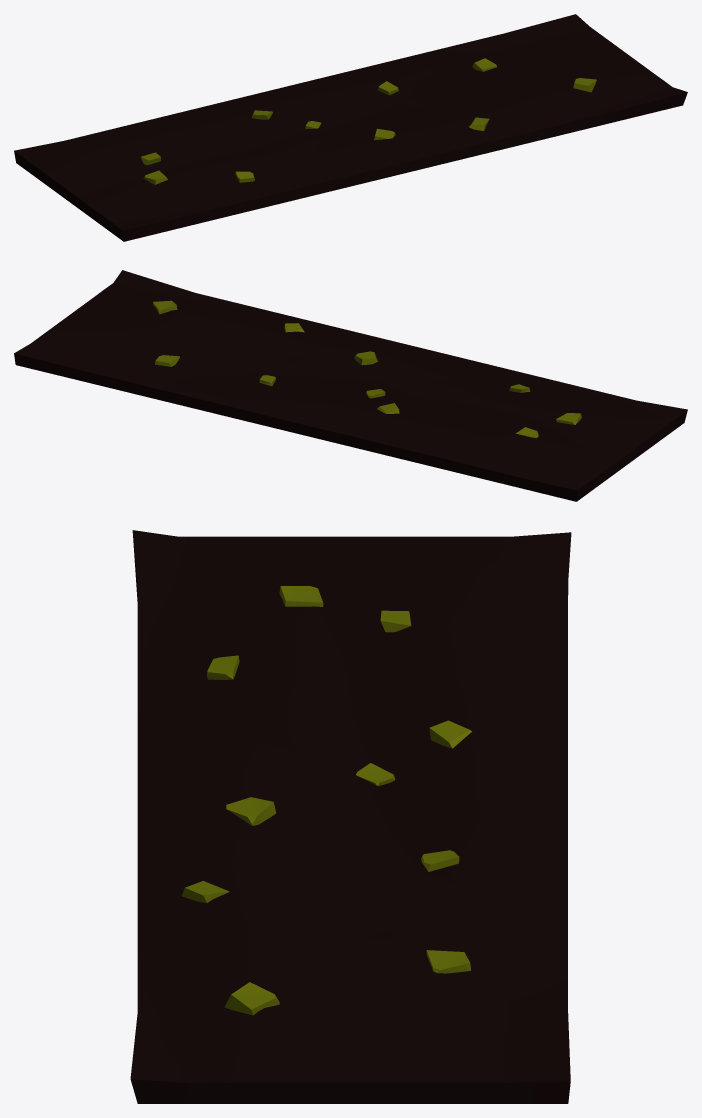
File: Sol_1.fbx
The picture shows the model from 3 angles, top to bottom: view 1: azimuth 30°, elevation 25°; view 2: azimuth 150°, elevation 25°; view 3: azimuth 270°, elevation 25°; orthographic projection. The views are drawn at different scales.
Visible parts, largest first — view 1: sol1; view 2: sol1; view 3: sol1.
Part boxes in pixels (<box>): sol1: <box>14,14,687,241</box>; sol1: <box>14,270,687,501</box>; sol1: <box>130,530,571,1103</box>.
Bounding box in the file's own units: 833 × 32.95 × 282.
